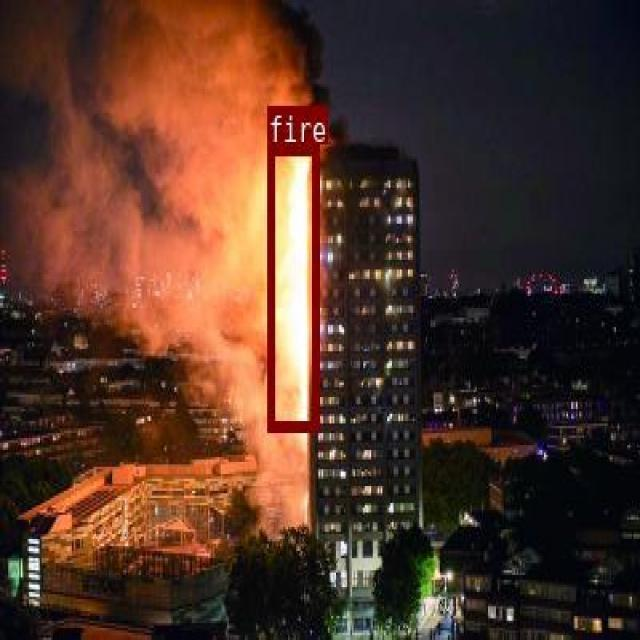fire: (266, 143, 318, 430)
